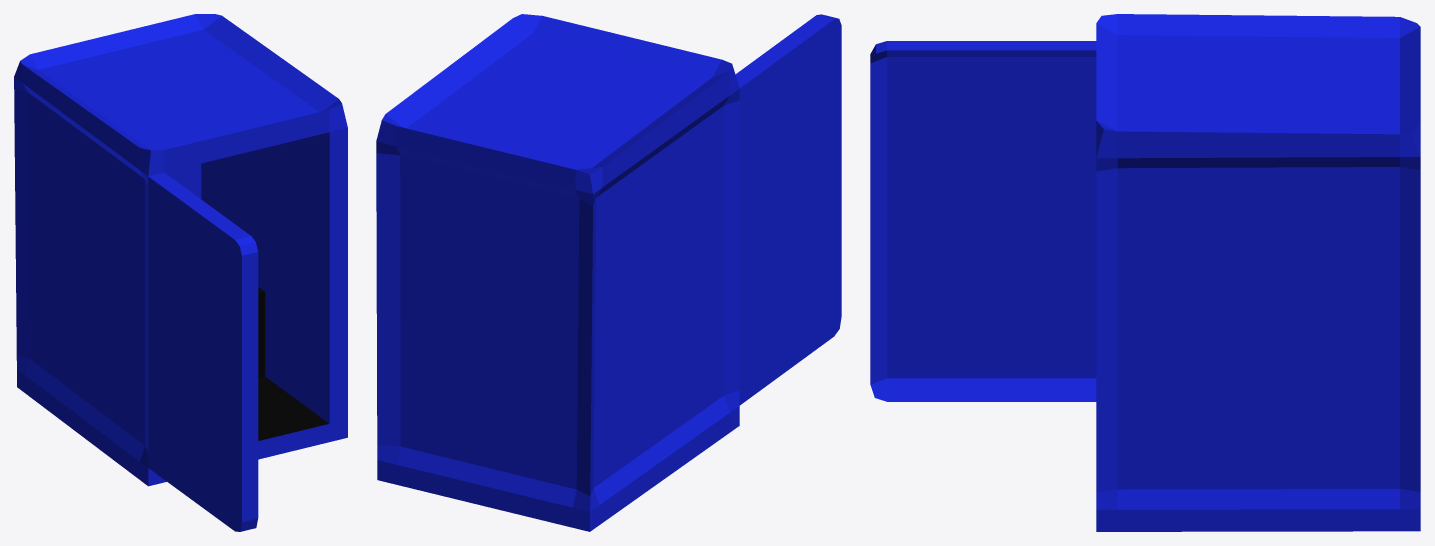
Rendered from Baño.fbx.
3 renders of one model, left to right at view 1: azimuth 30°, elevation 25°; view 2: azimuth 150°, elevation 25°; view 3: azimuth 270°, elevation 25°, orthographic. The views are drawn at different scales.
Visible parts, largest first — view 1: Baño; view 2: Baño; view 3: Baño.
Part boxes in pixels (left/top/right/bottom): Baño: left=14, top=14, right=347, bottom=531; Baño: left=376, top=14, right=841, bottom=531; Baño: left=870, top=14, right=1420, bottom=531.
Bounding box in the file's own units: 500 × 798 × 991.
